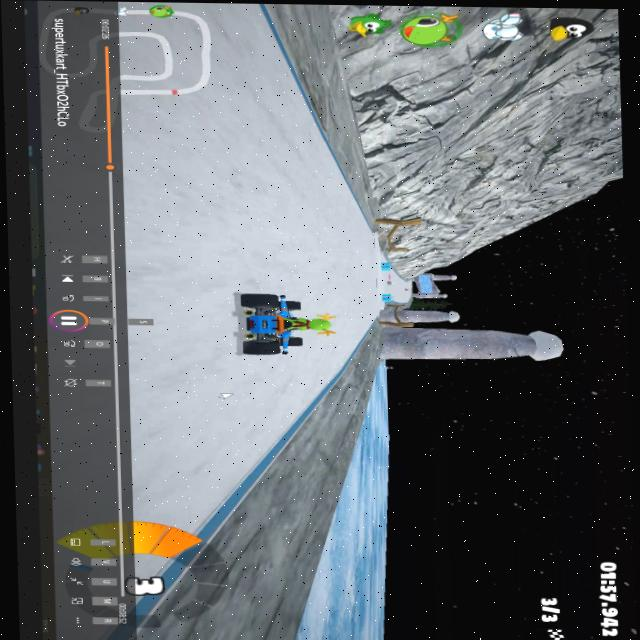bonus: (373, 259, 395, 276), (380, 292, 396, 304)
enemy_kart: (385, 283, 393, 287)
player_kart: (226, 288, 334, 360)
track: (119, 5, 266, 289), (128, 291, 231, 531), (257, 112, 320, 291), (234, 359, 328, 423), (337, 249, 378, 346), (227, 422, 285, 465), (322, 205, 359, 252), (262, 58, 293, 113), (321, 168, 346, 208), (319, 254, 338, 291), (396, 280, 413, 300), (362, 229, 377, 249)
